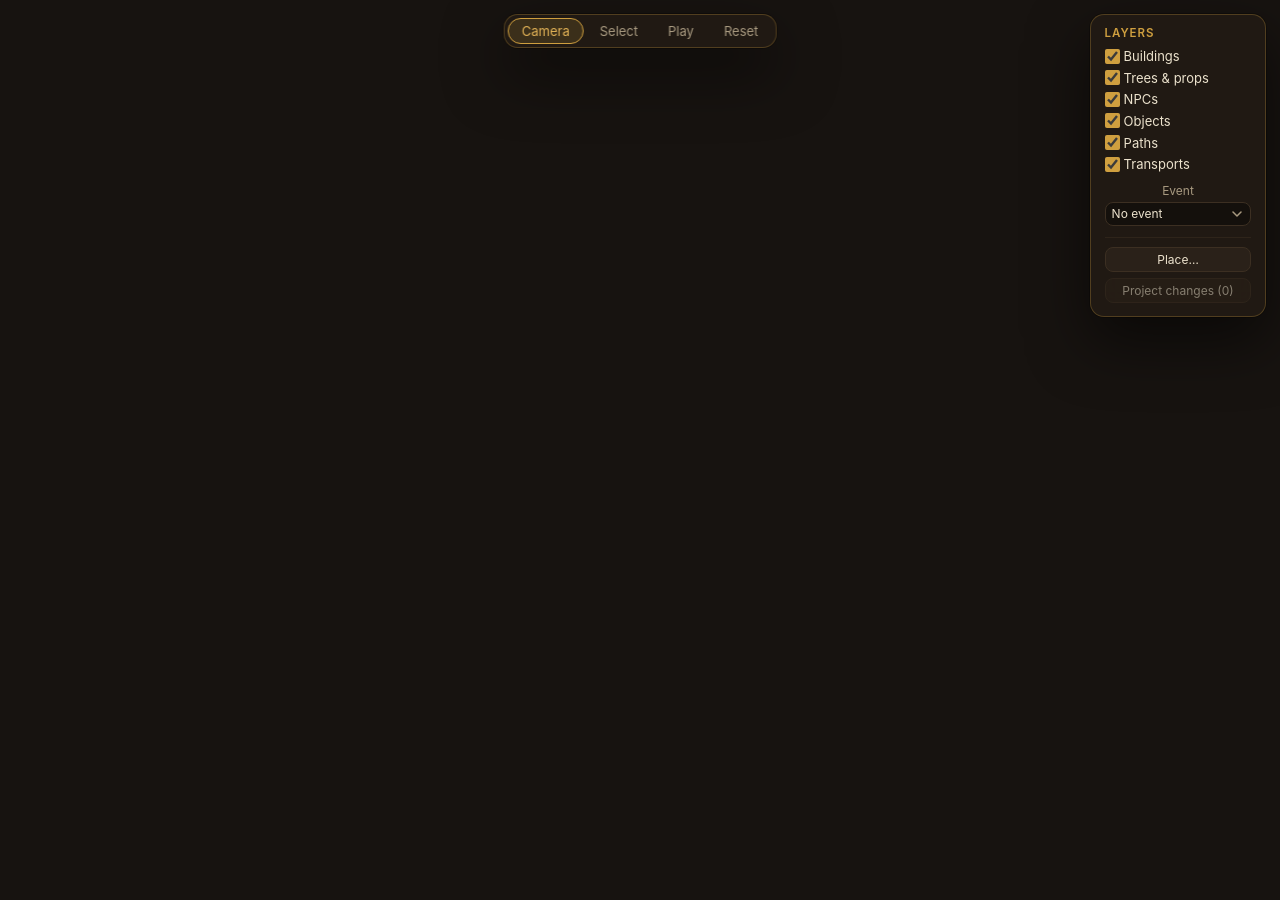
Test: placing an existing NPC or object from the 3D view › searches NPCs, and starts placing the one picked
This screenshot has width=1280, height=900.
Click the button "Place…". click: (1178, 259)
box: [1105,247,1251,272]
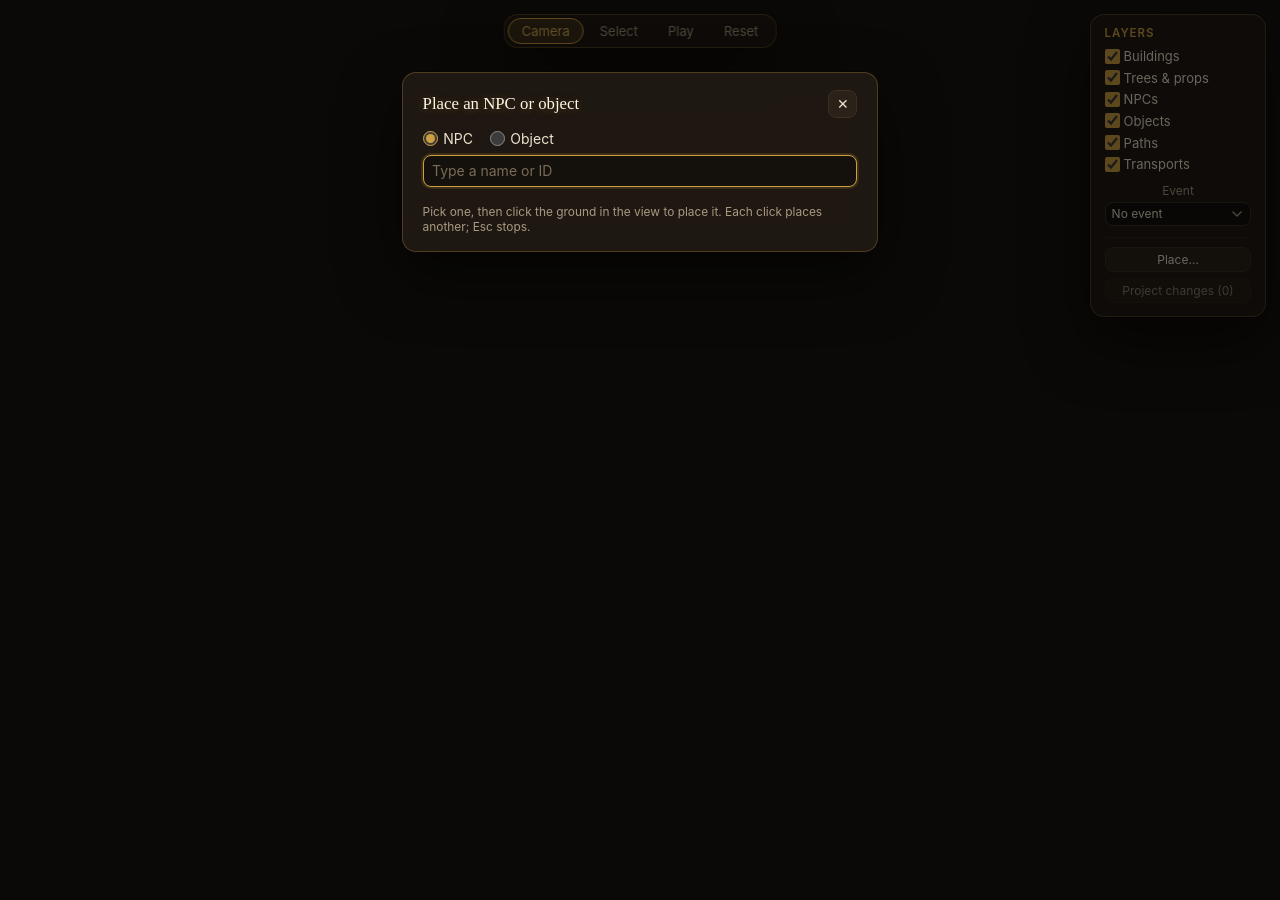
Click the radio button labelled "NPC". click: (430, 138)
box: [423,131,438,146]
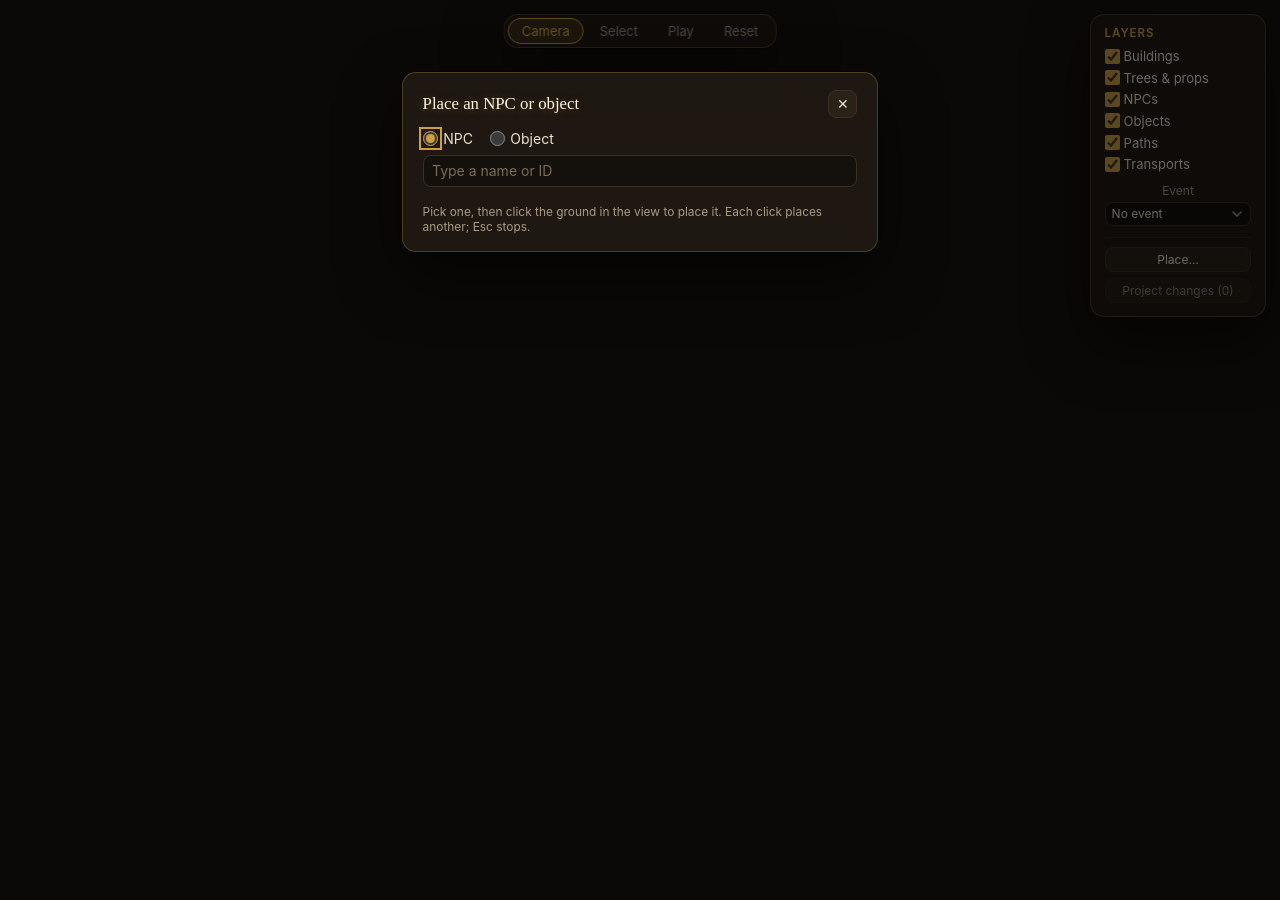
Type "guard" into the search field named "Find by name or ID". click: (640, 171)
box: [423,155,857,187]
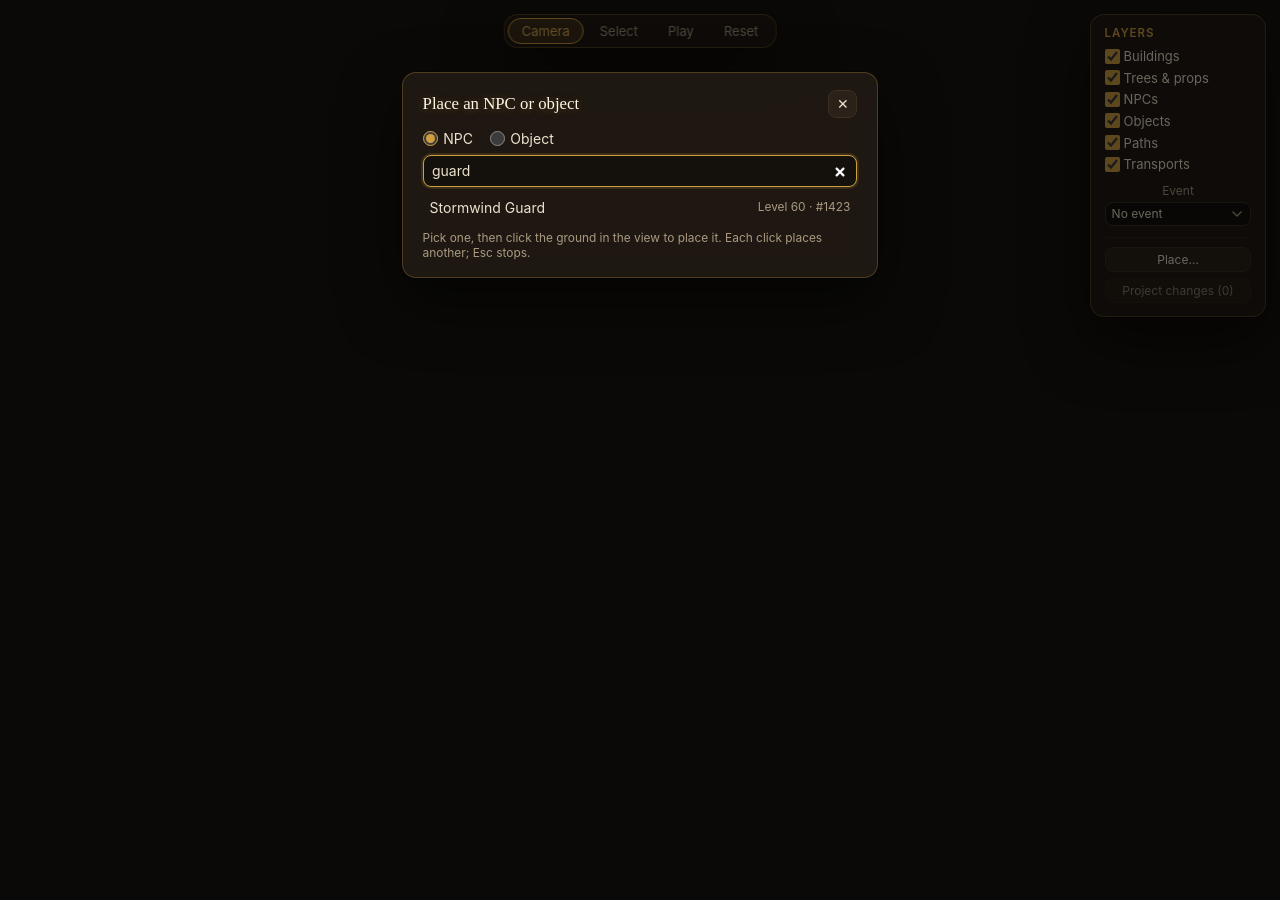
Click the button "Stormwind Guard Level 60 · #1423". click: (487, 208)
box: [423,195,857,220]
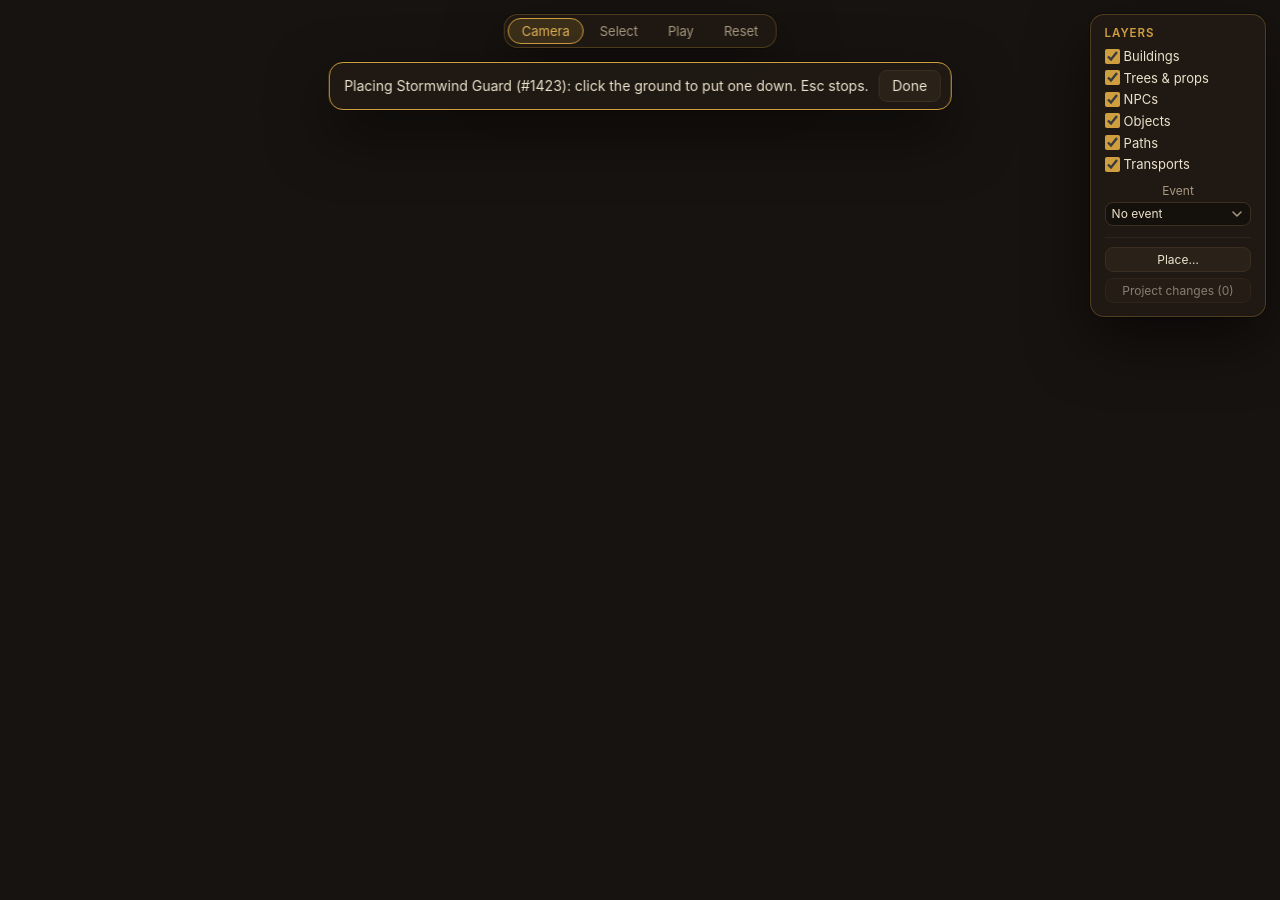
Now the heading "Place an NPC or object" is gone
Now the text "Placing Stormwind Guard (#1423)" is shown, box [329,62,951,110]
